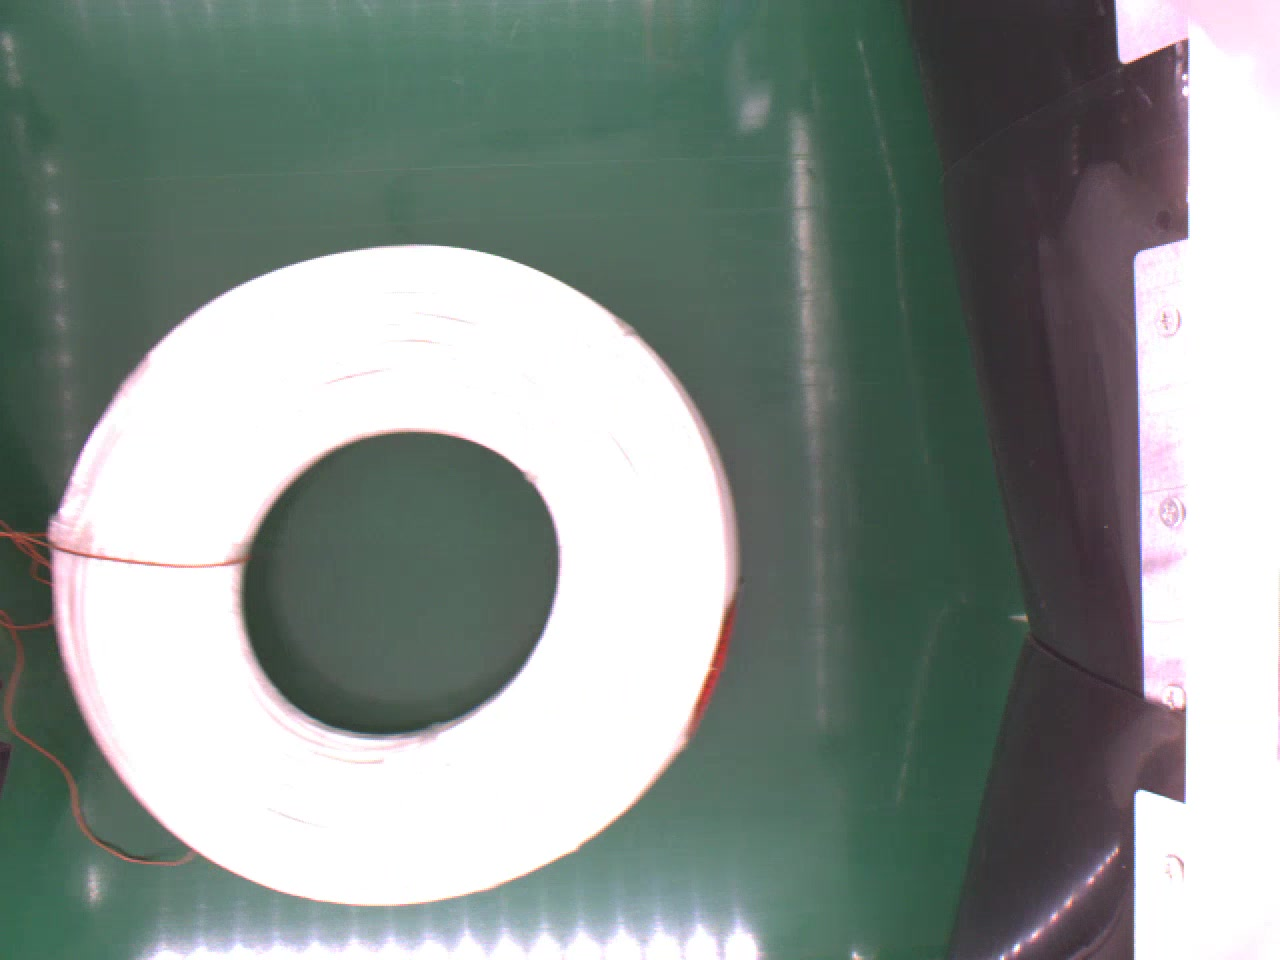white: (50, 238, 732, 902)
